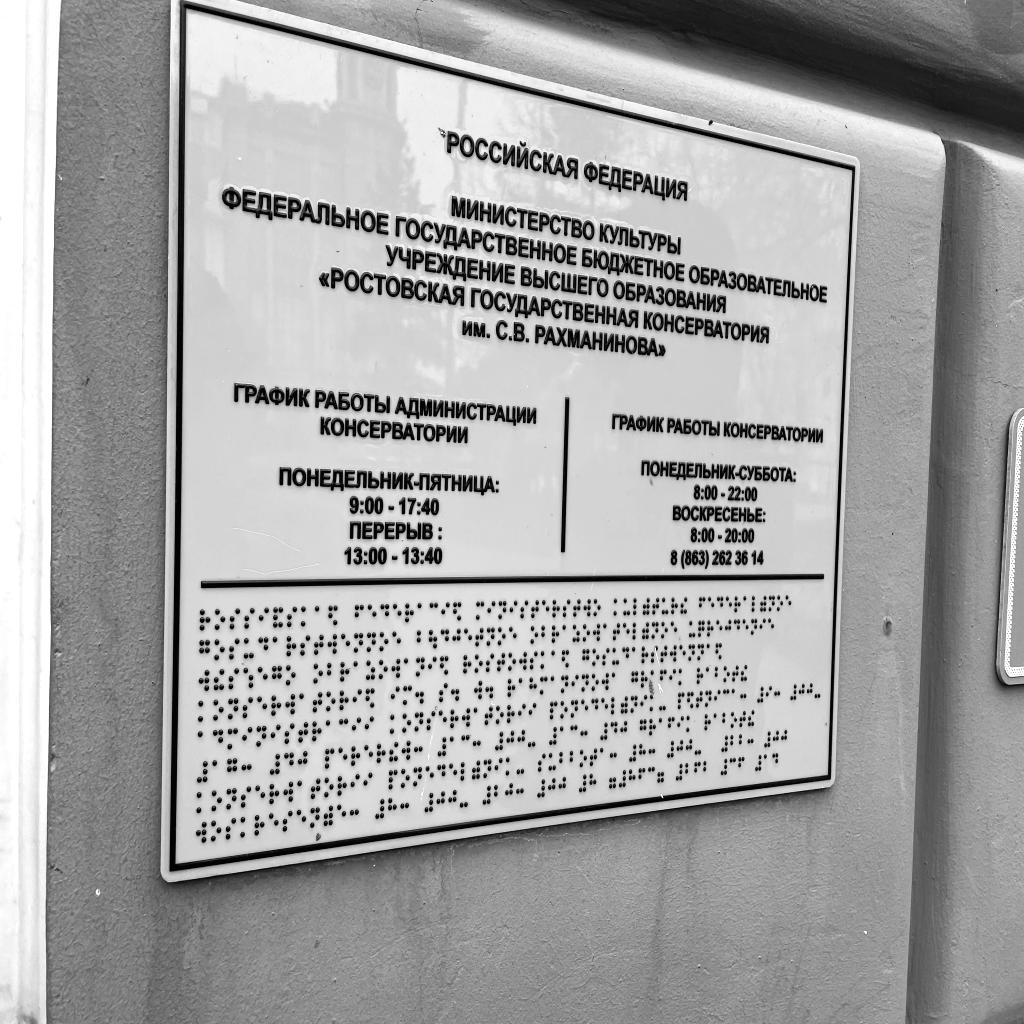_n: (226, 787, 237, 810), (228, 698, 239, 720), (256, 725, 267, 747), (310, 806, 320, 828), (354, 633, 363, 654), (415, 711, 424, 732), (413, 766, 422, 787), (367, 632, 376, 652), (416, 657, 425, 677), (498, 601, 507, 620), (483, 759, 492, 778), (487, 627, 495, 646), (561, 675, 569, 694), (581, 673, 589, 692), (571, 700, 579, 718), (630, 695, 638, 713), (652, 621, 659, 639), (689, 644, 696, 662), (697, 643, 704, 661), (705, 690, 712, 708), (769, 595, 775, 612), (751, 618, 757, 635)
_y: (244, 637, 254, 659), (612, 647, 620, 666), (549, 752, 557, 771), (623, 598, 631, 616), (662, 597, 669, 615), (689, 620, 695, 638)
a: (197, 731, 209, 753), (272, 636, 283, 657), (297, 780, 308, 801), (315, 606, 325, 627), (299, 693, 309, 714), (326, 720, 336, 741), (354, 661, 364, 681), (474, 707, 483, 727), (417, 603, 426, 622), (404, 658, 413, 677), (551, 651, 560, 670), (600, 747, 608, 766), (562, 624, 570, 642), (632, 646, 640, 664), (519, 678, 527, 696), (551, 676, 559, 694), (603, 623, 611, 640), (612, 672, 620, 689), (650, 669, 658, 686), (731, 688, 739, 705), (658, 717, 666, 733), (707, 643, 714, 660), (706, 666, 713, 683), (743, 596, 750, 612), (714, 713, 721, 729)
b: (417, 630, 426, 650), (327, 663, 336, 683), (559, 751, 568, 770), (569, 751, 578, 770), (541, 625, 549, 643), (715, 666, 722, 683), (722, 712, 729, 729)
c: (339, 718, 348, 739), (430, 602, 439, 621), (723, 688, 730, 706)
ch: (698, 620, 705, 638)
d: (213, 729, 224, 752), (258, 636, 269, 658), (380, 603, 390, 624), (437, 763, 446, 784), (441, 629, 450, 648), (592, 697, 599, 716), (717, 596, 724, 613), (622, 647, 629, 664), (734, 619, 740, 635)
d_0: (424, 791, 445, 813), (495, 730, 515, 751), (537, 777, 556, 798), (667, 740, 683, 759), (764, 730, 779, 748), (790, 684, 805, 701)
d_00: (424, 789, 457, 813), (495, 729, 525, 751), (537, 776, 566, 798), (667, 739, 693, 759), (764, 729, 787, 748), (790, 683, 813, 701)
d_1: (197, 759, 224, 784), (438, 736, 460, 757), (549, 725, 569, 745), (755, 754, 771, 771)
d_13: (437, 734, 470, 757), (549, 724, 578, 745)
d_14: (755, 753, 779, 771)
d_17: (197, 757, 237, 784)
d_2: (482, 785, 503, 805), (721, 735, 738, 753), (676, 762, 692, 781)
d_20: (482, 783, 513, 805)
d_22: (721, 733, 746, 752)
d_26: (675, 761, 701, 780)
d_262: (676, 760, 711, 781)
d_3: (721, 757, 737, 776)
d_36: (720, 756, 745, 776)
d_4: (270, 752, 294, 775), (600, 721, 618, 740)
d_40: (269, 750, 308, 775), (600, 720, 627, 741)
d_8: (375, 796, 397, 820), (629, 743, 647, 762), (579, 773, 596, 793), (619, 769, 636, 788)
d_86: (619, 767, 646, 788)
d_863: (619, 766, 655, 788)
d_9: (757, 686, 772, 704)
defis: (528, 730, 536, 748), (517, 757, 525, 775), (460, 790, 468, 808), (659, 694, 666, 711), (695, 739, 702, 756), (814, 683, 821, 699)
dvoetochie: (241, 757, 252, 778), (350, 803, 360, 824), (400, 796, 409, 816), (414, 740, 423, 759), (473, 734, 482, 753), (516, 782, 524, 800), (580, 725, 588, 742), (609, 747, 617, 764), (648, 744, 656, 760), (774, 685, 781, 702), (740, 688, 747, 704), (747, 734, 754, 749)
e: (257, 666, 268, 688), (255, 785, 266, 806), (268, 813, 279, 834), (296, 809, 307, 830), (257, 696, 267, 717), (338, 747, 348, 767), (439, 710, 448, 731), (337, 804, 346, 825), (393, 603, 402, 623), (341, 633, 350, 653), (364, 745, 373, 765), (425, 766, 434, 786), (449, 763, 458, 783), (392, 631, 401, 650), (368, 604, 376, 624), (464, 628, 472, 647), (509, 626, 517, 644), (542, 599, 549, 618), (581, 699, 588, 717), (785, 595, 792, 612), (623, 623, 630, 640), (671, 621, 678, 638), (679, 644, 686, 661), (602, 698, 609, 715), (716, 620, 723, 636), (742, 619, 749, 635), (708, 596, 714, 613), (726, 596, 732, 613), (768, 618, 774, 633)
f: (355, 604, 364, 625), (699, 596, 706, 613), (660, 669, 667, 686), (668, 716, 675, 733)
g: (199, 639, 210, 662), (272, 665, 282, 688), (582, 648, 590, 666), (631, 670, 639, 688), (640, 719, 647, 736)
gh: (452, 628, 461, 647), (725, 619, 731, 635)
i: (242, 726, 253, 750), (271, 724, 282, 747), (259, 607, 270, 629), (351, 773, 361, 795), (352, 688, 362, 709), (352, 717, 362, 738), (363, 772, 373, 793), (390, 685, 400, 705), (365, 716, 374, 738), (428, 656, 437, 676), (528, 702, 537, 722), (441, 602, 450, 621), (509, 600, 518, 619), (518, 703, 527, 722), (494, 758, 503, 777), (487, 600, 495, 620), (571, 673, 579, 692), (640, 695, 648, 713), (669, 668, 677, 685), (714, 689, 721, 707), (677, 716, 684, 733), (760, 618, 766, 634)
iKratkoe: (273, 607, 283, 628)
ii: (214, 668, 225, 691), (389, 741, 398, 762), (680, 596, 687, 614), (741, 665, 748, 682), (748, 710, 754, 727)
k: (196, 792, 208, 813), (198, 701, 209, 723), (240, 817, 251, 838), (301, 606, 311, 628), (390, 714, 400, 734), (540, 651, 549, 670), (506, 757, 515, 776), (614, 598, 622, 616), (650, 694, 658, 712), (678, 668, 686, 685), (686, 715, 694, 732)
l: (460, 762, 469, 782), (632, 622, 640, 640), (633, 598, 640, 616), (752, 595, 759, 612), (611, 697, 618, 714)
m: (227, 727, 238, 751), (402, 685, 413, 706), (476, 601, 485, 620), (539, 676, 548, 695)
myagkiy: (323, 805, 333, 827), (472, 760, 480, 779), (642, 597, 650, 615), (642, 622, 649, 640), (621, 696, 628, 714), (760, 595, 766, 612)
o: (210, 820, 222, 842), (215, 609, 226, 631), (214, 639, 225, 661), (213, 699, 224, 721), (211, 790, 222, 812), (379, 631, 389, 652), (286, 665, 296, 686), (314, 663, 324, 684), (326, 691, 336, 712), (324, 777, 334, 798), (379, 659, 388, 680), (402, 713, 411, 733), (401, 769, 410, 789), (579, 750, 588, 768), (498, 626, 506, 646), (496, 705, 504, 725), (593, 598, 601, 617), (531, 625, 539, 644), (475, 654, 483, 673), (508, 652, 516, 671), (560, 700, 568, 719), (592, 649, 600, 667), (592, 673, 600, 691), (583, 624, 590, 642), (661, 621, 668, 639), (723, 666, 730, 683), (731, 712, 738, 729), (777, 595, 783, 611)
p: (325, 747, 335, 769), (388, 769, 398, 790), (549, 701, 558, 720), (678, 692, 685, 709)
r: (199, 609, 211, 631), (270, 695, 282, 717), (286, 635, 297, 657), (350, 745, 361, 767), (269, 784, 280, 806), (254, 815, 265, 837), (340, 661, 350, 683), (339, 690, 349, 711), (312, 721, 322, 742), (376, 743, 386, 764), (337, 776, 347, 797), (450, 708, 459, 729), (405, 603, 414, 623), (463, 654, 472, 674), (507, 678, 516, 698), (507, 704, 515, 724), (552, 599, 560, 618), (671, 597, 679, 615), (552, 625, 560, 643), (641, 646, 649, 664), (641, 670, 649, 688), (696, 667, 704, 685), (649, 718, 657, 736), (707, 619, 714, 637), (704, 713, 711, 731), (734, 596, 741, 613)
s: (229, 667, 240, 690), (243, 696, 254, 719), (284, 722, 295, 745), (226, 817, 237, 840), (244, 607, 255, 629), (287, 606, 298, 628), (229, 638, 240, 660), (241, 786, 252, 808), (282, 810, 293, 832), (230, 608, 241, 629), (300, 635, 311, 656), (426, 711, 436, 732), (439, 682, 448, 703), (520, 600, 529, 619), (486, 653, 495, 672), (530, 651, 538, 670), (538, 753, 546, 772), (563, 599, 571, 617), (602, 648, 610, 666), (651, 645, 659, 663)
sh: (243, 667, 254, 689)
skobka: (609, 772, 617, 789), (657, 766, 665, 783)
t: (312, 691, 323, 714), (298, 721, 308, 743), (311, 778, 321, 800), (314, 634, 324, 655), (475, 627, 484, 647), (484, 706, 493, 726), (497, 652, 505, 672), (531, 600, 539, 619), (590, 748, 598, 767), (573, 599, 581, 617), (653, 597, 660, 615), (613, 623, 620, 641), (661, 645, 668, 663), (696, 690, 703, 708), (739, 710, 746, 728), (732, 665, 739, 682)
tochka: (415, 685, 424, 705), (485, 681, 494, 700), (451, 683, 459, 702)
u: (429, 629, 438, 649)
v: (198, 669, 210, 692), (285, 693, 296, 715), (283, 781, 294, 803), (196, 822, 207, 844), (327, 633, 338, 654), (401, 740, 411, 761), (391, 659, 401, 679), (519, 651, 528, 671), (601, 672, 610, 691), (474, 680, 482, 700), (462, 707, 470, 727), (583, 598, 591, 617), (593, 623, 600, 642), (670, 644, 677, 662)
x: (530, 677, 538, 695)
ya: (365, 688, 375, 709), (328, 605, 338, 625), (453, 601, 462, 621), (440, 655, 449, 675), (562, 650, 570, 668), (716, 643, 723, 660), (687, 691, 694, 708)
z: (366, 660, 375, 680), (573, 624, 580, 642)
